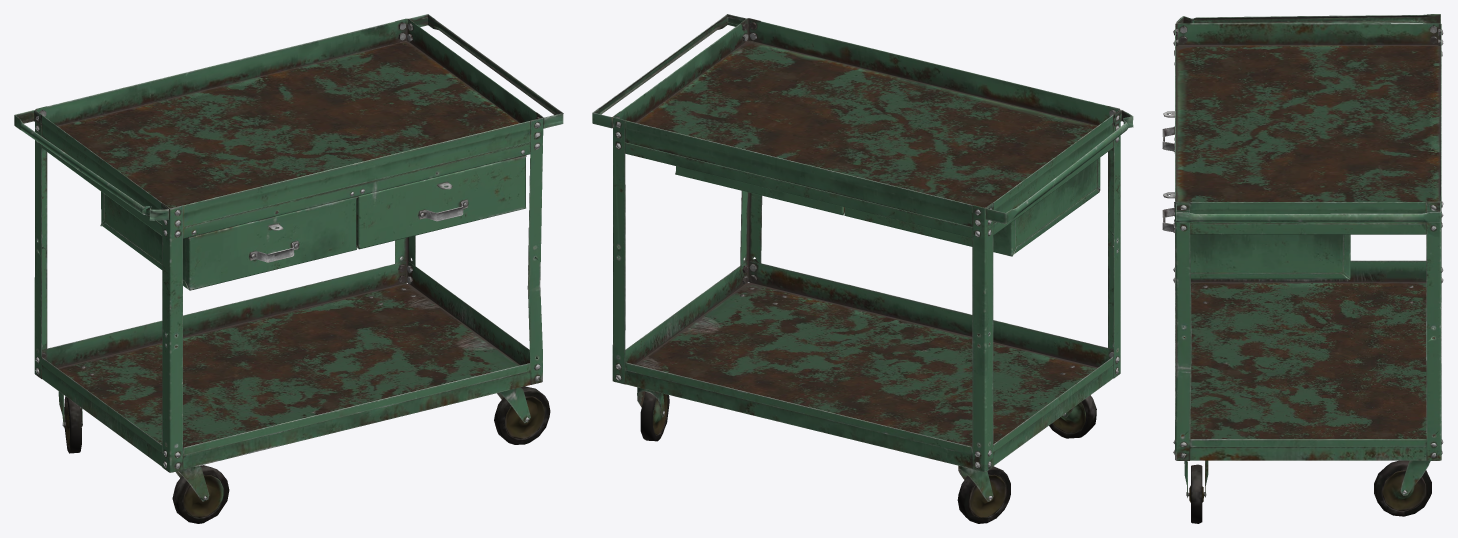
Rendered from tool_cart.glb.
3 renders of one model, left to right at view 1: azimuth 30°, elevation 25°; view 2: azimuth 150°, elevation 25°; view 3: azimuth 270°, elevation 25°, orthographic. The views are drawn at different scales.
Visible parts, largest first — view 1: cart_LOD0; view 2: cart_LOD0; view 3: cart_LOD0.
Part boxes in pixels (x1,y1,x2,y2): cart_LOD0: (14,14,563,523); cart_LOD0: (592,14,1133,523); cart_LOD0: (1162,14,1443,523).
Size of what is drawn, in the model's own units: 1.27 by 0.963 by 0.7537.
1 material, 1 textured.
